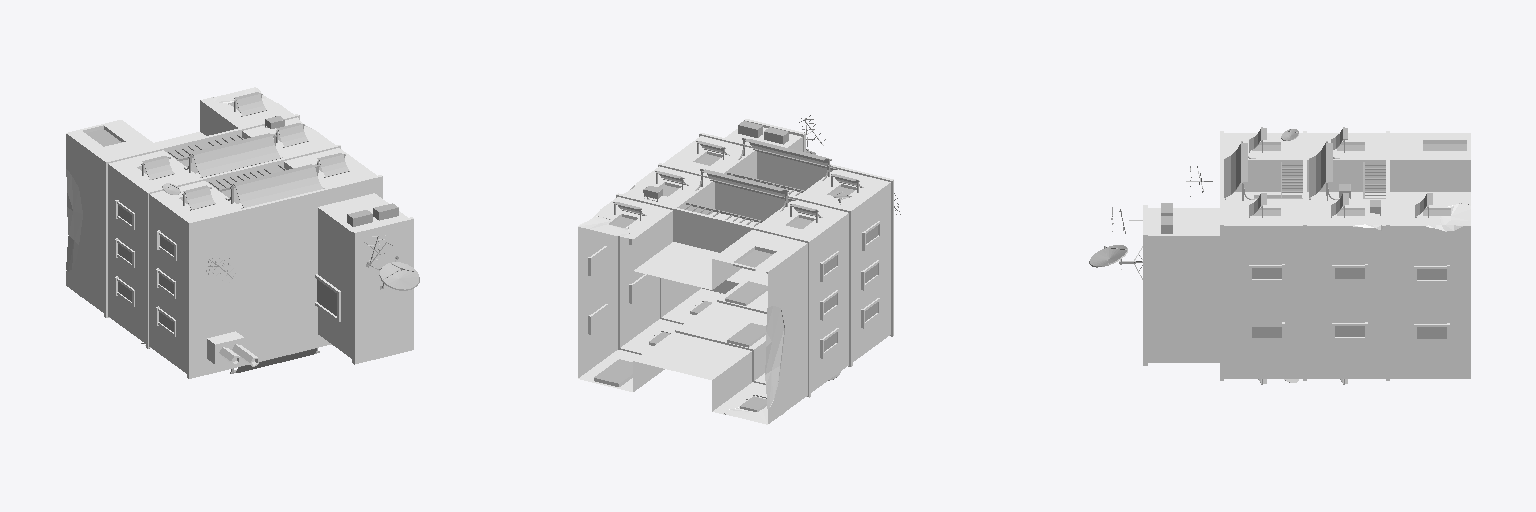
The model's file is house1.obj.
The picture shows the model from 3 angles: view 1: azimuth 30°, elevation 25°; view 2: azimuth 150°, elevation 25°; view 3: azimuth 270°, elevation 25°; orthographic projection.
Visible parts, largest first — view 1: House1_001; view 2: House1_001; view 3: House1_001.
Part boxes in pixels (x1,y1,x2,y2): House1_001: (66,87,419,378); House1_001: (578,115,900,424); House1_001: (1089,127,1470,384).
Size of the model in its own units: 11.93 by 10.89 by 20.02.